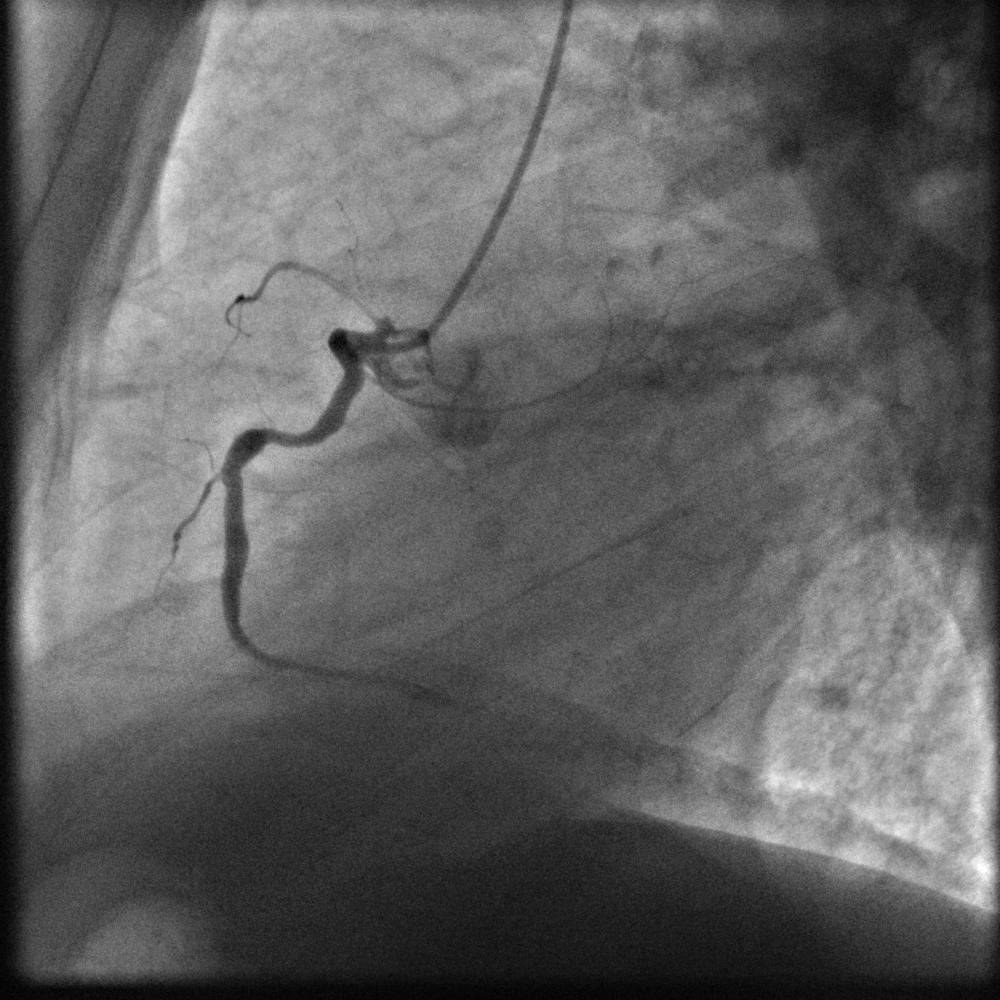Stenosis: (258, 419, 297, 451)
